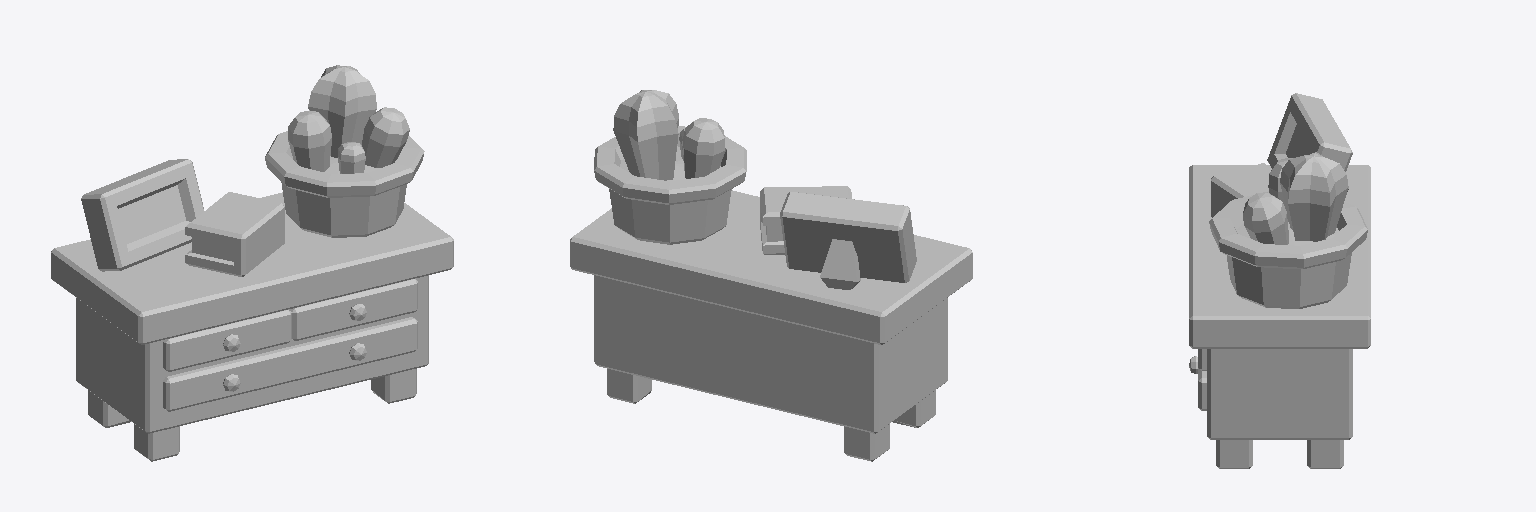
File: cabinet_medium_decorated.obj
3 views of the same model, side by side, from view 1: azimuth 30°, elevation 25°; view 2: azimuth 150°, elevation 25°; view 3: azimuth 270°, elevation 25° (orthographic).
Visible parts, largest first — view 1: cabinet_medium_decorated_Cube.049; view 2: cabinet_medium_decorated_Cube.049; view 3: cabinet_medium_decorated_Cube.049.
Boxes of the visible parts, box(x1,y1,x2,y2) form: cabinet_medium_decorated_Cube.049: box(51, 65, 453, 461); cabinet_medium_decorated_Cube.049: box(570, 90, 972, 461); cabinet_medium_decorated_Cube.049: box(1189, 93, 1370, 468).
Bounding box in the file's own units: 2.04 × 1.83 × 1.